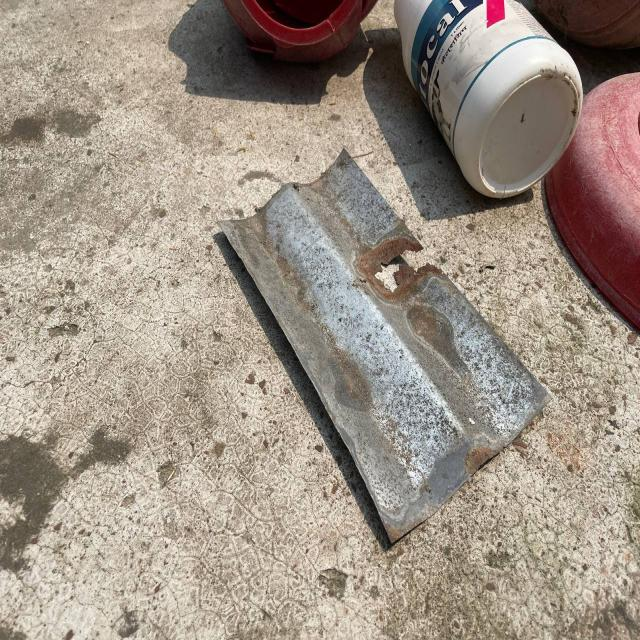Metal: (201, 146, 585, 553)
Plastics: (195, 0, 640, 155)
